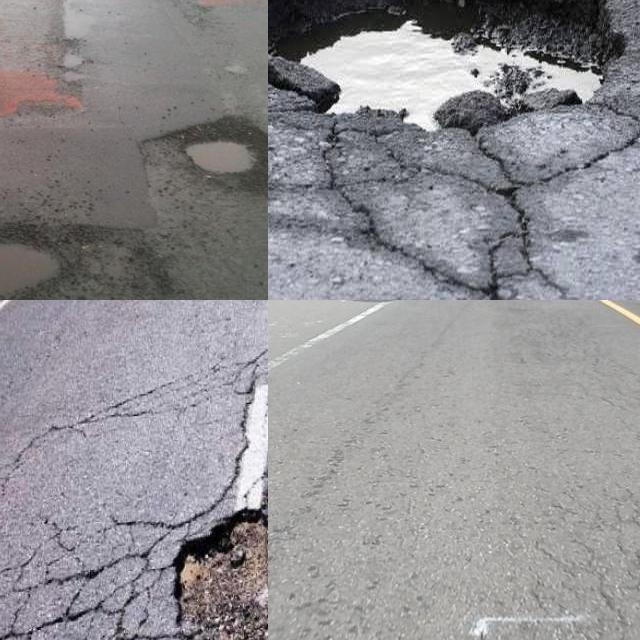Lubang: (268, 0, 619, 137), (0, 224, 172, 300), (169, 517, 268, 640), (169, 128, 268, 184)
Retak Buaya: (0, 347, 268, 640)
